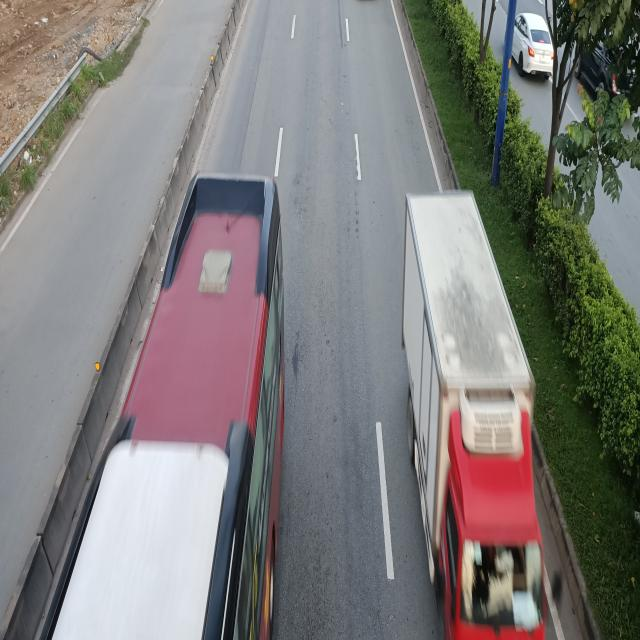coach: (37, 172, 285, 640)
truck: (400, 193, 557, 640)
